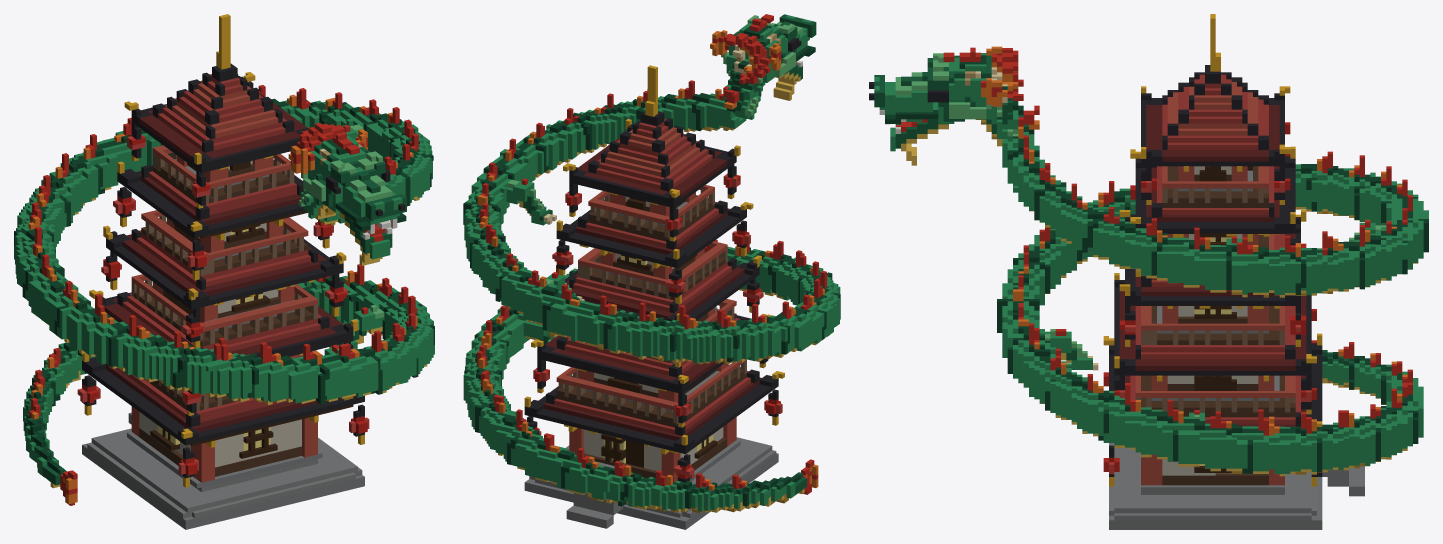
Rendered from Summit.glb.
The picture shows the model from 3 angles, left to right: view 1: azimuth 30°, elevation 25°; view 2: azimuth 150°, elevation 25°; view 3: azimuth 270°, elevation 25°; orthographic projection. The views are drawn at different scales.
Parts seen in each view (by area): view 1: Summit3, Summit1, Summit2; view 2: Summit1, Summit2, Summit3; view 3: Summit1, Summit3, Summit2.
Boxes of the visible parts, bbox=[...] form: Summit3: bbox=[86, 123, 434, 529]; Summit1: bbox=[14, 187, 427, 516]; Summit2: bbox=[14, 14, 426, 301]; Summit1: bbox=[463, 260, 834, 529]; Summit2: bbox=[463, 65, 820, 348]; Summit3: bbox=[529, 14, 840, 473]; Summit1: bbox=[1146, 178, 1423, 529]; Summit3: bbox=[869, 46, 1146, 529]; Summit2: bbox=[1146, 14, 1428, 297].
Bounding box in the file's own units: 48 × 58.2 × 63.
